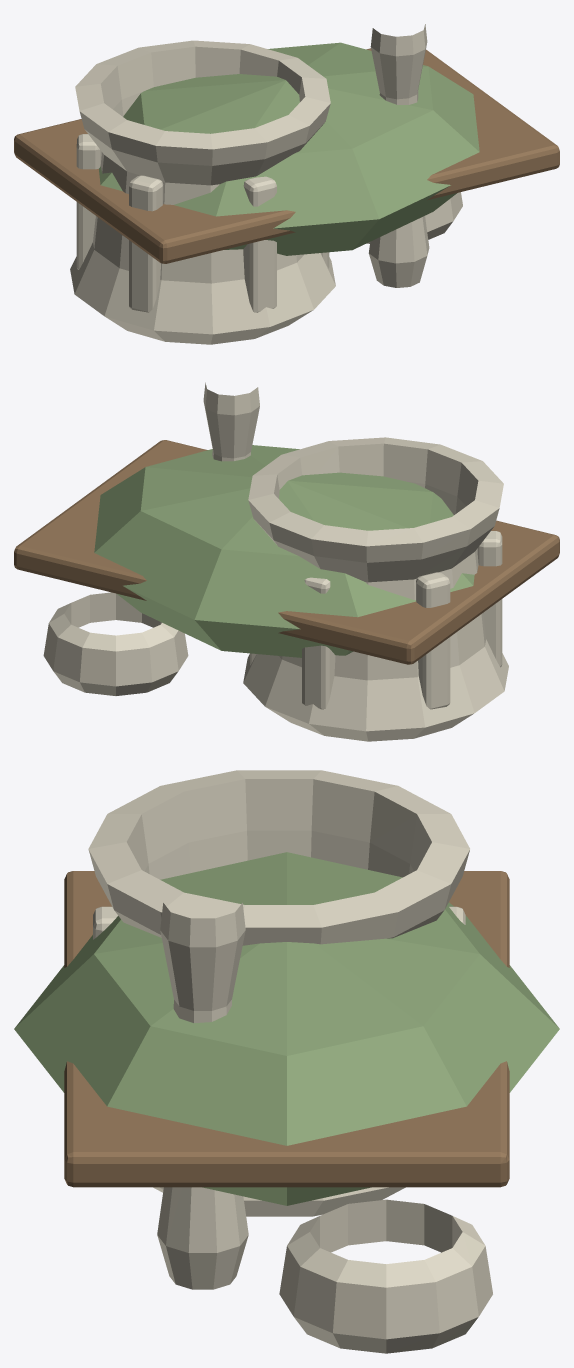
The model's file is mortar_pestle.glb.
3 renders of one model, top to bottom at view 1: azimuth 30°, elevation 25°; view 2: azimuth 150°, elevation 25°; view 3: azimuth 270°, elevation 25°, orthographic. The views are drawn at different scales.
Parts seen in each view (by area): view 1: 284-mortar-and-pestle-set/1, 284-mortar-and-pestle-set/2, 284-mortar-and-pestle-set/0; view 2: 284-mortar-and-pestle-set/1, 284-mortar-and-pestle-set/2, 284-mortar-and-pestle-set/0; view 3: 284-mortar-and-pestle-set/2, 284-mortar-and-pestle-set/1, 284-mortar-and-pestle-set/0.
Part boxes in pixels (x1=…): 284-mortar-and-pestle-set/1: x1=70, y1=24, x2=462, y2=344; 284-mortar-and-pestle-set/2: x1=99, y1=42, x2=479, y2=255; 284-mortar-and-pestle-set/0: x1=14, y1=48, x2=559, y2=263; 284-mortar-and-pestle-set/1: x1=43, y1=382, x2=508, y2=741; 284-mortar-and-pestle-set/2: x1=94, y1=445, x2=474, y2=657; 284-mortar-and-pestle-set/0: x1=14, y1=440, x2=559, y2=664; 284-mortar-and-pestle-set/2: x1=14, y1=852, x2=559, y2=1205; 284-mortar-and-pestle-set/1: x1=88, y1=770, x2=492, y2=1353; 284-mortar-and-pestle-set/0: x1=64, y1=871, x2=509, y2=1187.
Size of the model in its own units: 2 by 1.21 by 1.6.
